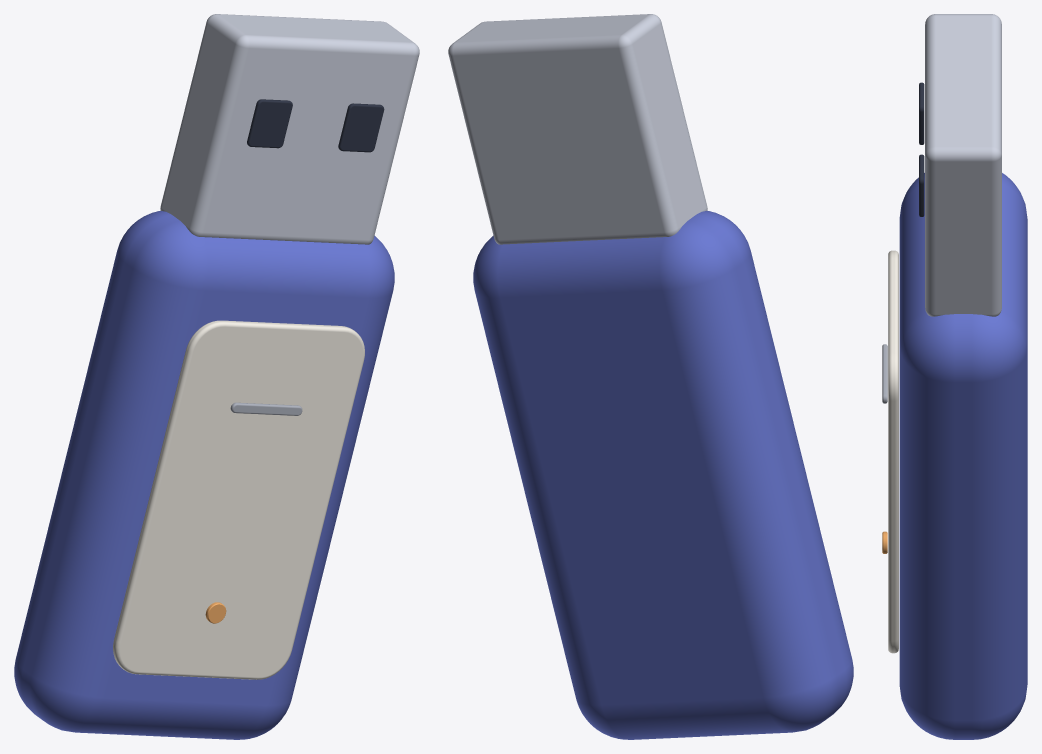
Rendered from usb-stick.glb.
The picture shows the model from 3 angles, left to right: view 1: azimuth 30°, elevation 25°; view 2: azimuth 150°, elevation 25°; view 3: azimuth 270°, elevation 25°; orthographic projection.
Parts seen in each view (by area): view 1: usb-stick; view 2: usb-stick; view 3: usb-stick.
Part boxes in pixels (x1=…): usb-stick: x1=14, y1=14, x2=419, y2=739; usb-stick: x1=448, y1=14, x2=853, y2=739; usb-stick: x1=882, y1=14, x2=1027, y2=739.
Bounding box in the file's own units: 1.04 × 1.85 × 0.34.
